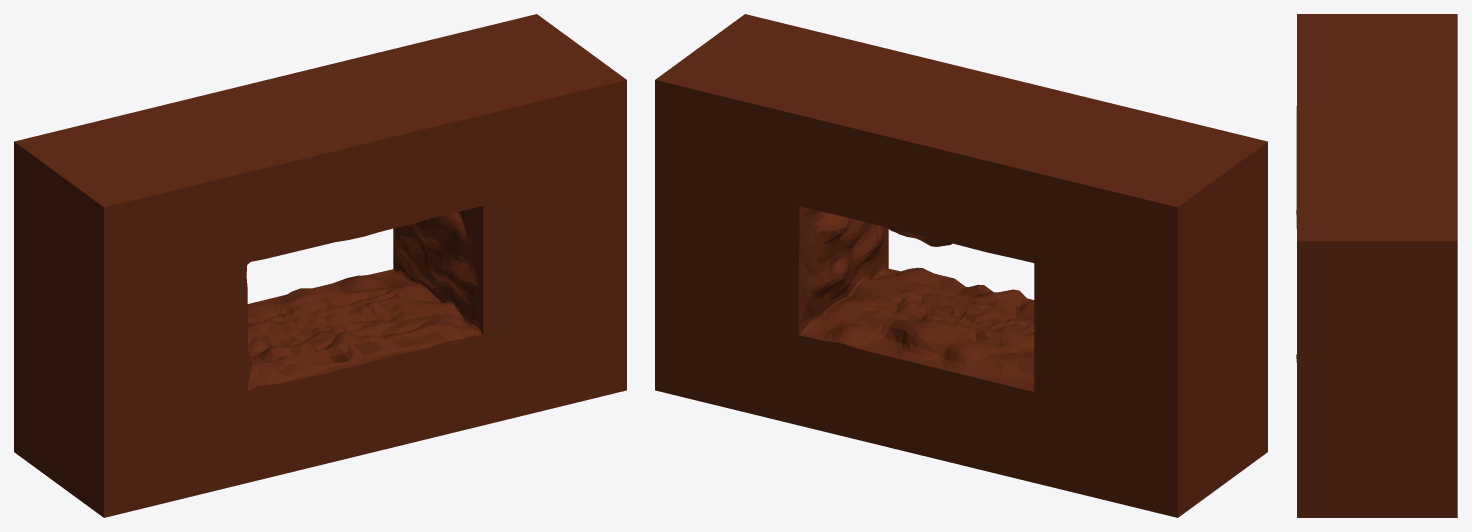
Rendered from LevelWorld_01.glb.
The picture shows the model from 3 angles, left to right: view 1: azimuth 30°, elevation 25°; view 2: azimuth 150°, elevation 25°; view 3: azimuth 270°, elevation 25°; orthographic projection. The views are drawn at different scales.
Parts seen in each view (by area): view 1: Cube; view 2: Cube; view 3: Cube.
Boxes of the visible parts, x1=… form: Cube: x1=14, y1=14, x2=626, y2=517; Cube: x1=655, y1=14, x2=1267, y2=517; Cube: x1=1296, y1=14, x2=1457, y2=517.
Size of the model in its own units: 67.08 by 38.07 by 20.14.
